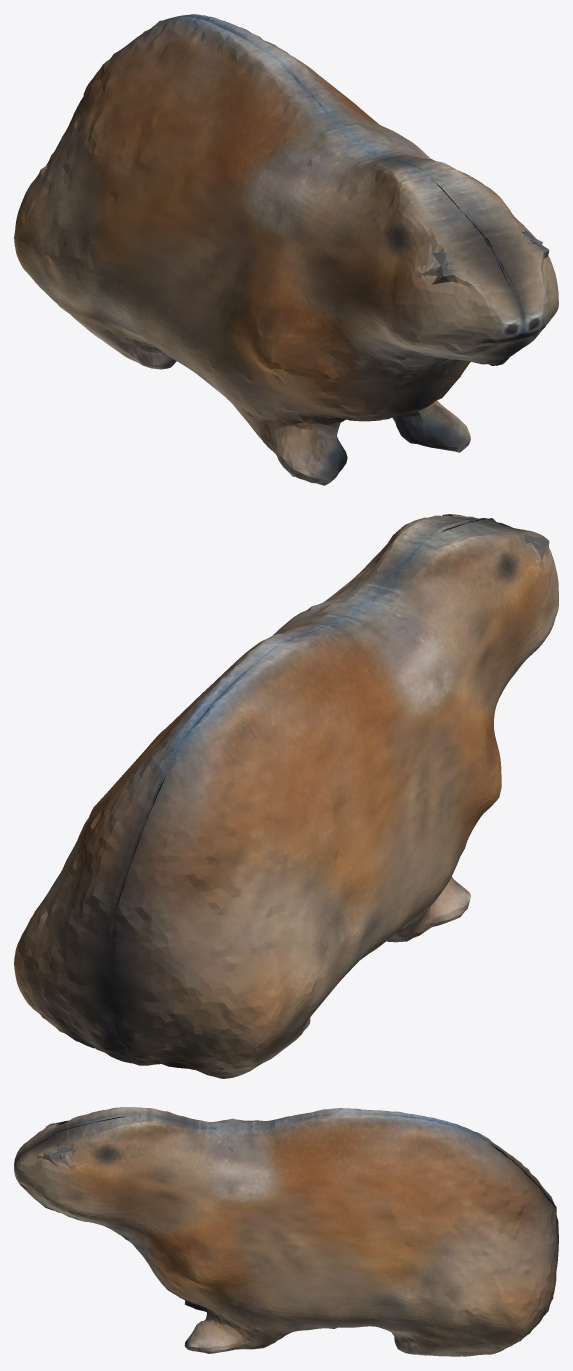
3 renders of one model, top to bottom at view 1: azimuth 30°, elevation 25°; view 2: azimuth 150°, elevation 25°; view 3: azimuth 270°, elevation 25°, orthographic. The views are drawn at different scales.
Visible parts, largest first — view 1: Mesh_0.001; view 2: Mesh_0.001; view 3: Mesh_0.001.
Part boxes in pixels (x1,y1,x2,y2): Mesh_0.001: (14, 14, 558, 485); Mesh_0.001: (14, 514, 558, 1078); Mesh_0.001: (14, 1107, 558, 1356).
Bounding box in the file's own units: 0.0869 × 0.1041 × 0.2298.
1 material, 1 textured.
